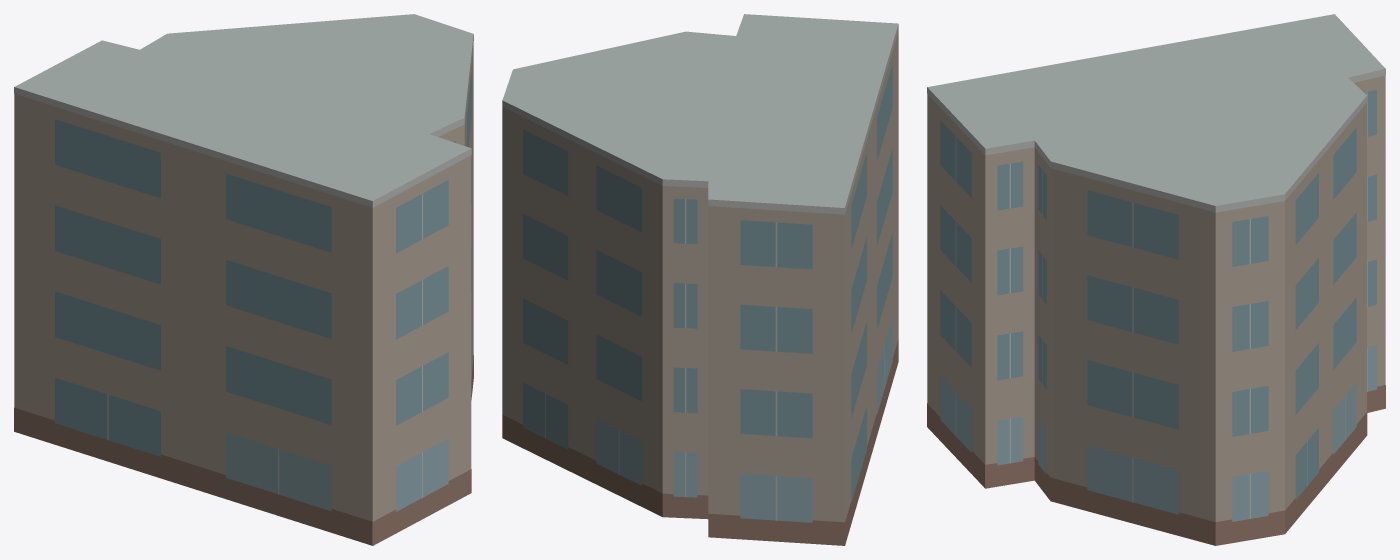
Rendered from survey-upis-32652968.glb.
The picture shows the model from 3 angles, left to right: view 1: azimuth 30°, elevation 25°; view 2: azimuth 150°, elevation 25°; view 3: azimuth 270°, elevation 25°; orthographic projection. The views are drawn at different scales.
Visible parts, largest first — view 1: survey-upis-32652968.tmp; view 2: survey-upis-32652968.tmp; view 3: survey-upis-32652968.tmp.
Boxes of the visible parts, <box> form: survey-upis-32652968.tmp: <box>14,14,473,545</box>; survey-upis-32652968.tmp: <box>502,14,898,545</box>; survey-upis-32652968.tmp: <box>927,14,1385,545</box>.
Size of the model in its own units: 15.16 by 12.5 by 15.3.
